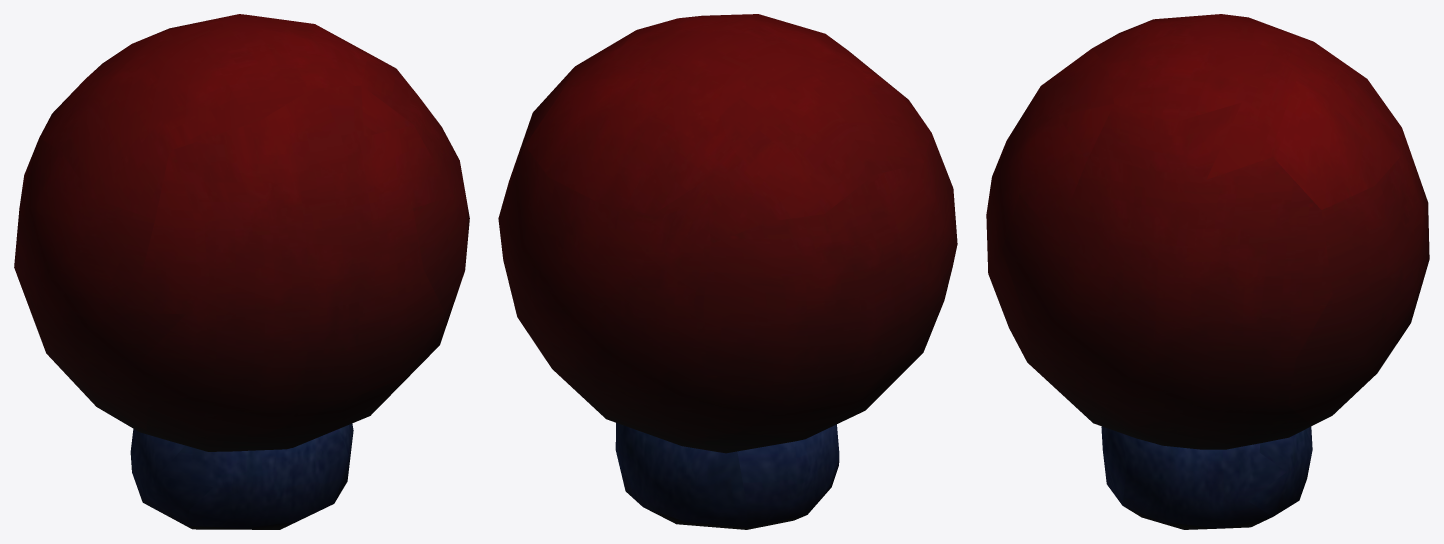
File: glove.dae
The picture shows the model from 3 angles, left to right: view 1: azimuth 30°, elevation 25°; view 2: azimuth 150°, elevation 25°; view 3: azimuth 270°, elevation 25°; orthographic projection.
Parts seen in each view (by area): view 1: Sphere; view 2: Sphere; view 3: Sphere.
Part boxes in pixels (box(x1,y1,x2,y2)): Sphere: box(14, 14, 469, 529); Sphere: box(498, 14, 957, 529); Sphere: box(986, 14, 1429, 529).
Size of the model in its own units: 0.1077 by 0.1042 by 0.1183.
1 material, 1 textured.
